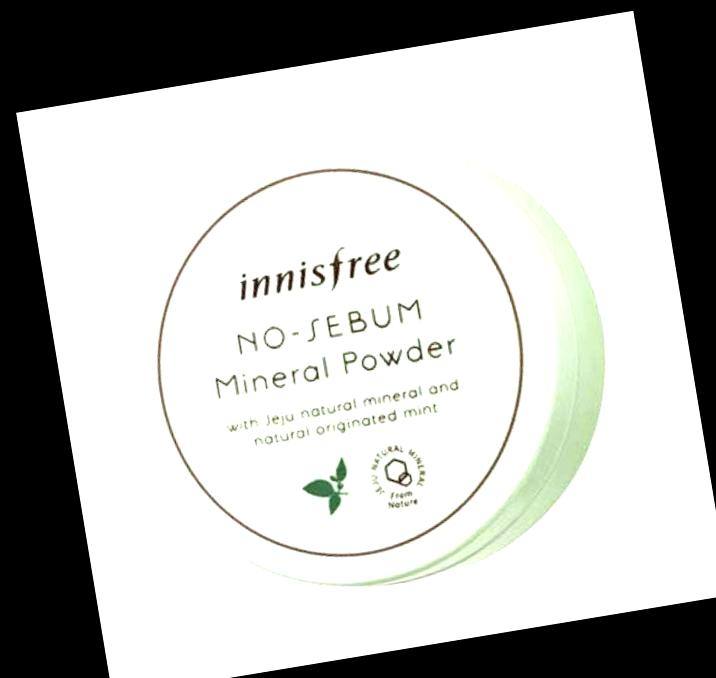cosmetic: (106, 105, 627, 611)
